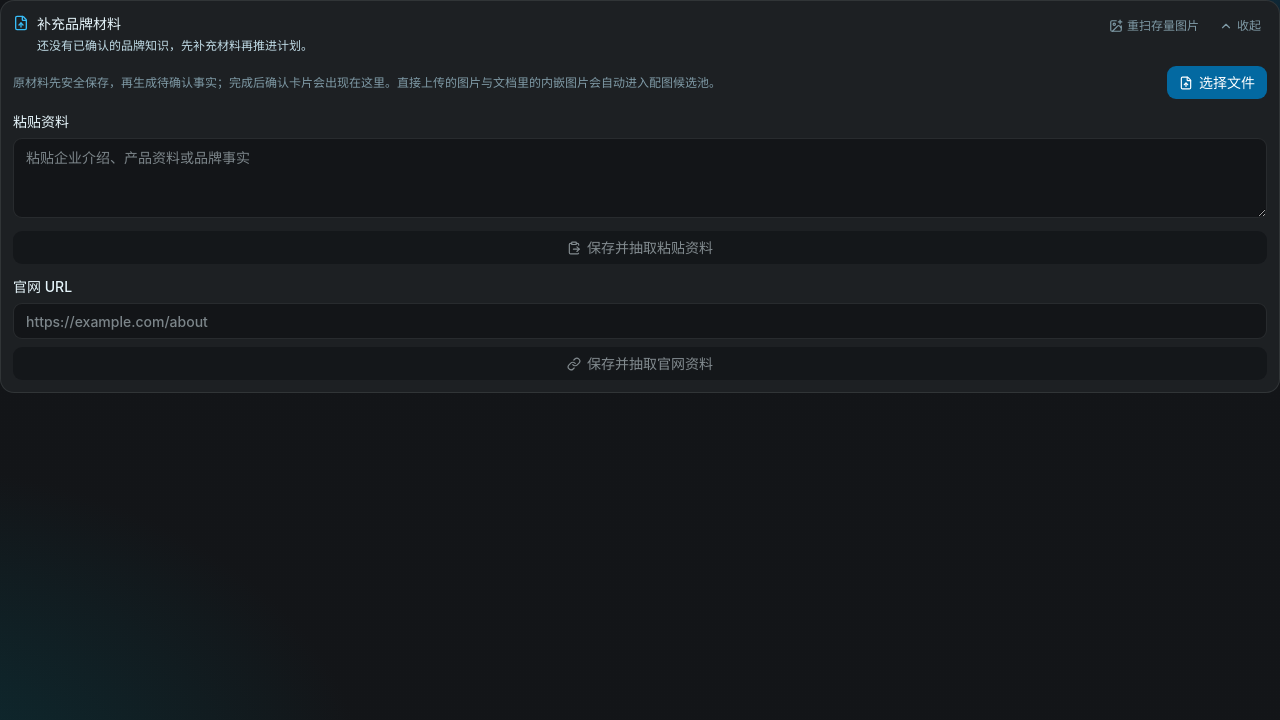
it: MaterialRequestCard › surfaces a delete failure without dropping the row
The width and height of the screenshot is (1280, 720).
In the text box with placeholder "粘贴企业介绍、产品资料或品牌事实": (640, 178) [13, 138, 1267, 218], type "公司全称：鲸跃科技"
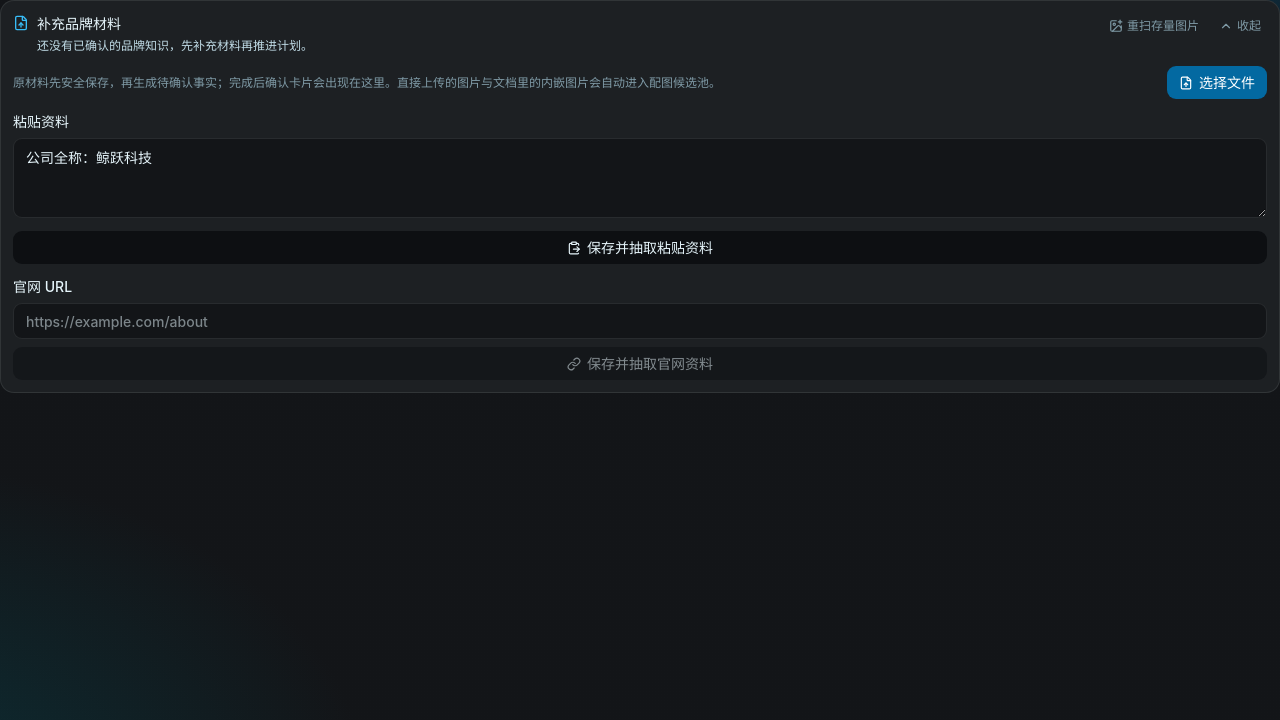
Click the button "保存并抽取粘贴资料": (640, 248) [13, 231, 1267, 264]
Wait 3000 ms
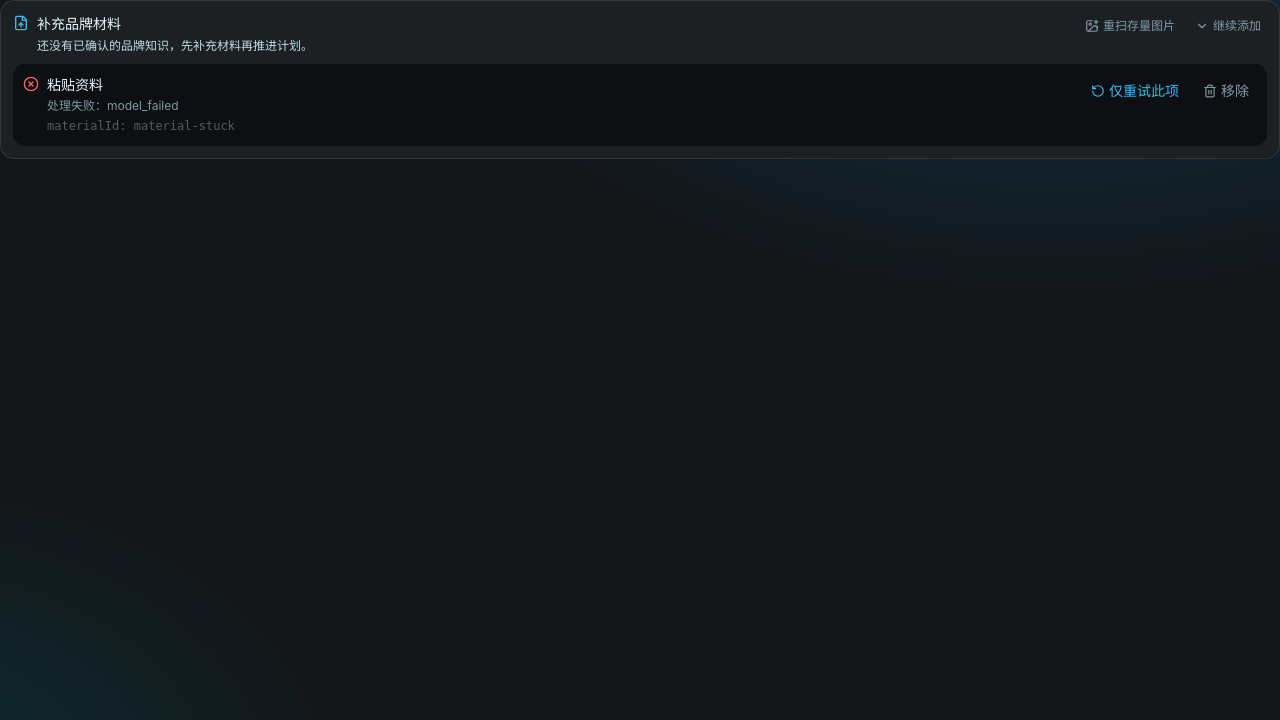
Click the button with aria-label "移除 粘贴资料": (1226, 90) [1195, 74, 1257, 107]
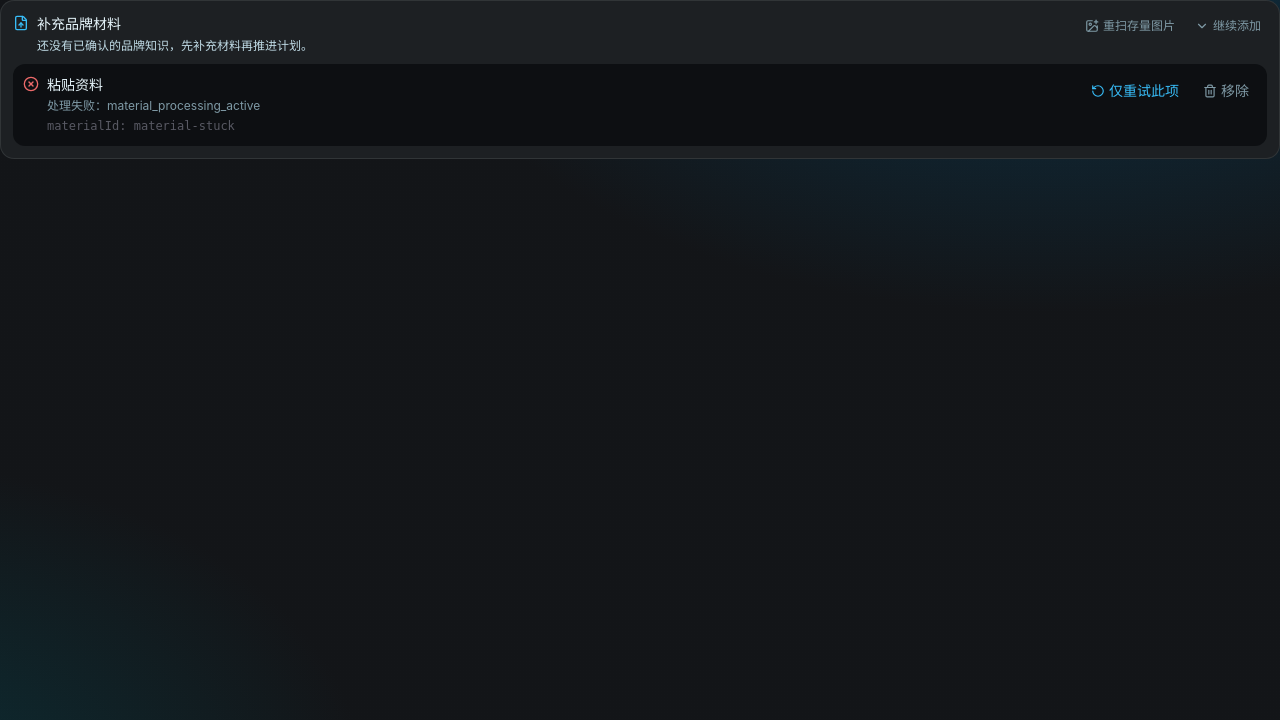
Expected: the button with aria-label "移除 粘贴资料" is shown, [1195, 74, 1257, 107]
Expected: the text "处理失败：material_processing_active" is shown, [47, 98, 260, 113]
